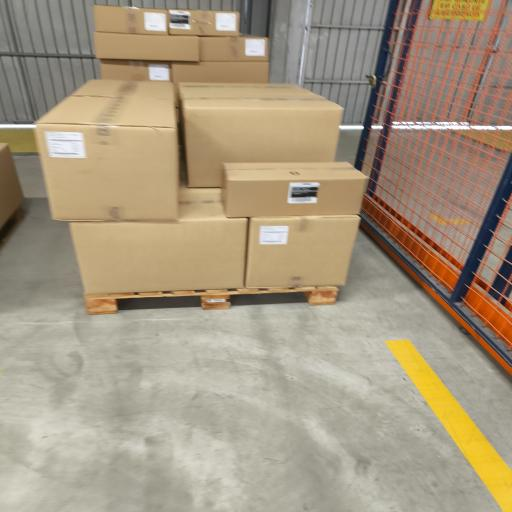pallet: (85, 287, 338, 314), (0, 208, 23, 247)
